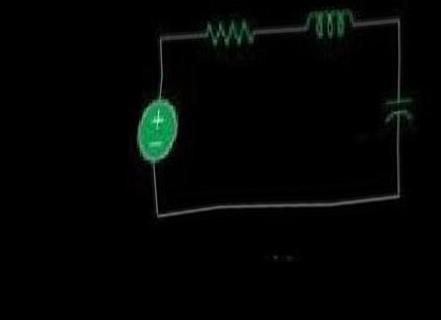Battery: (114, 94, 191, 168)
